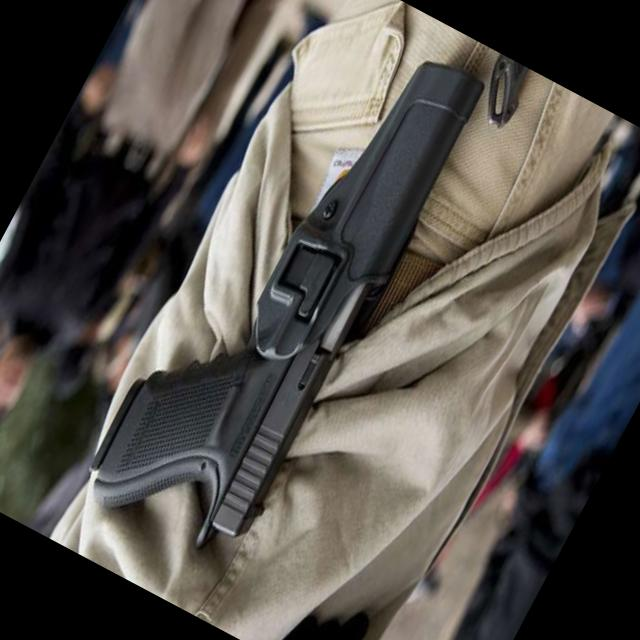Weapon: (64, 0, 506, 588)
